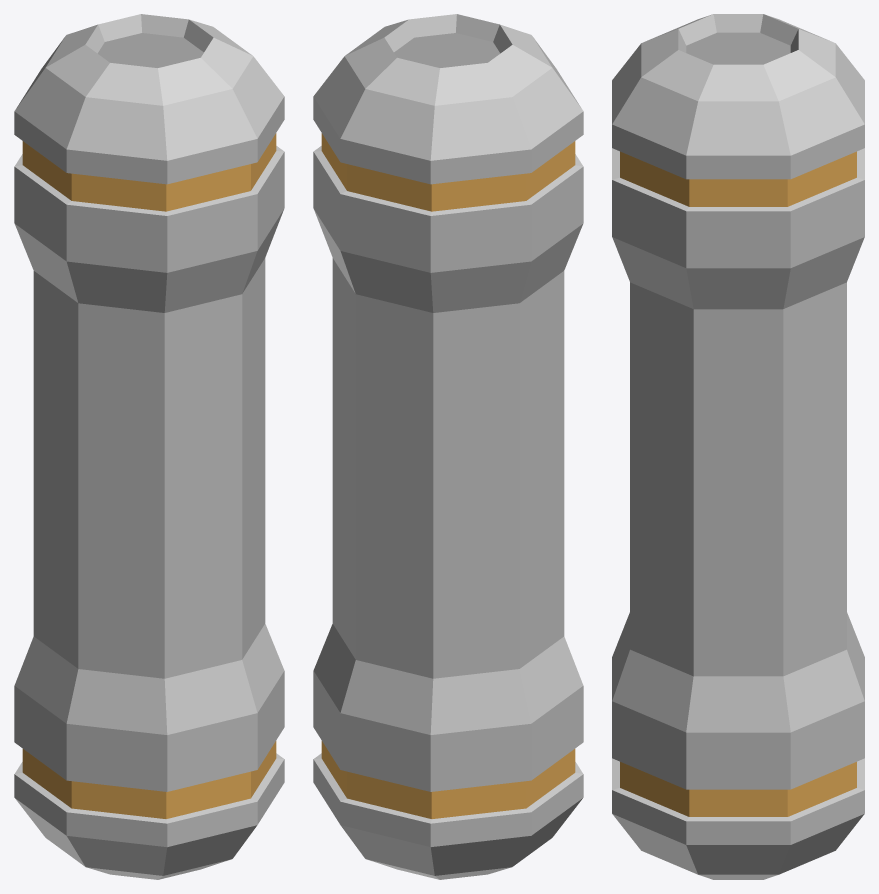
Rendered from sf_vessel_tall.glb.
3 renders of one model, left to right at view 1: azimuth 30°, elevation 25°; view 2: azimuth 150°, elevation 25°; view 3: azimuth 270°, elevation 25°, orthographic.
Visible parts, largest first — view 1: Props_Vessel_Tall; view 2: Props_Vessel_Tall; view 3: Props_Vessel_Tall.
Part boxes in pixels (<box>): Props_Vessel_Tall: <box>14,14,284,879</box>; Props_Vessel_Tall: <box>313,14,583,879</box>; Props_Vessel_Tall: <box>612,14,864,879</box>.
Size of the model in its own units: 0.2873 by 1.02 by 0.2873.
